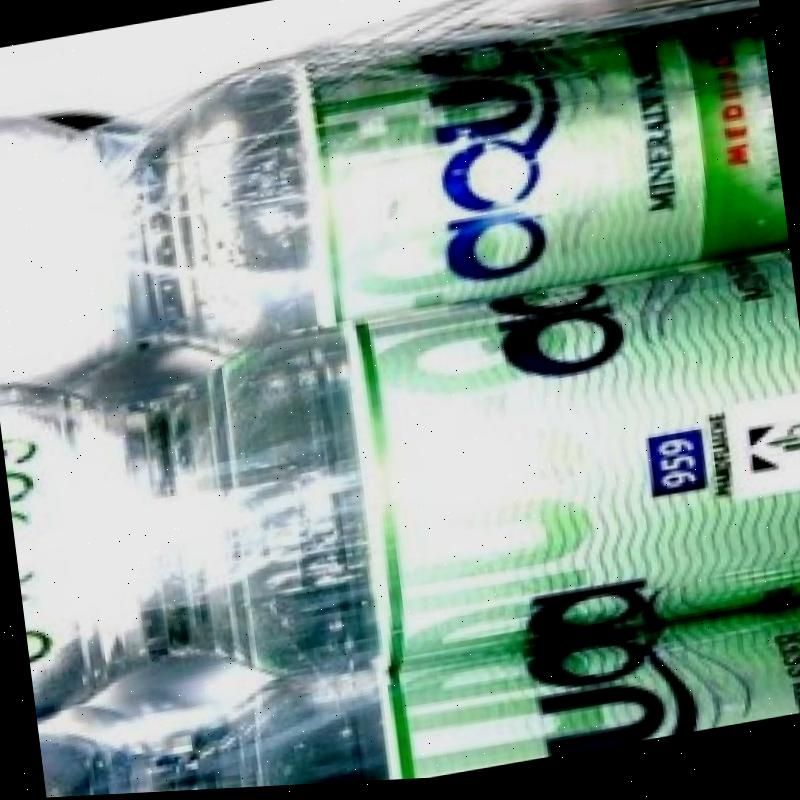botella: (0, 251, 800, 723), (0, 0, 790, 394), (37, 597, 800, 798)
